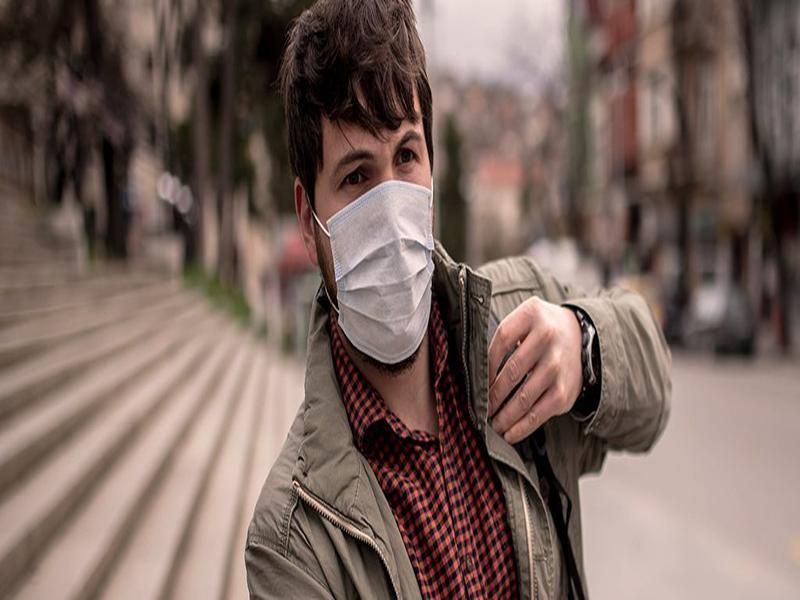mask: (318, 178, 441, 367)
